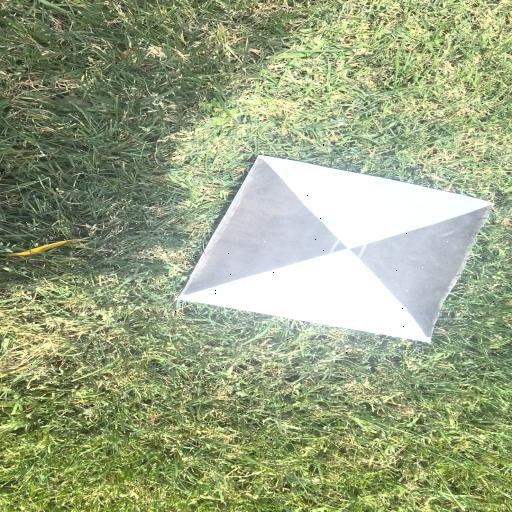target: (177, 155, 496, 342)
